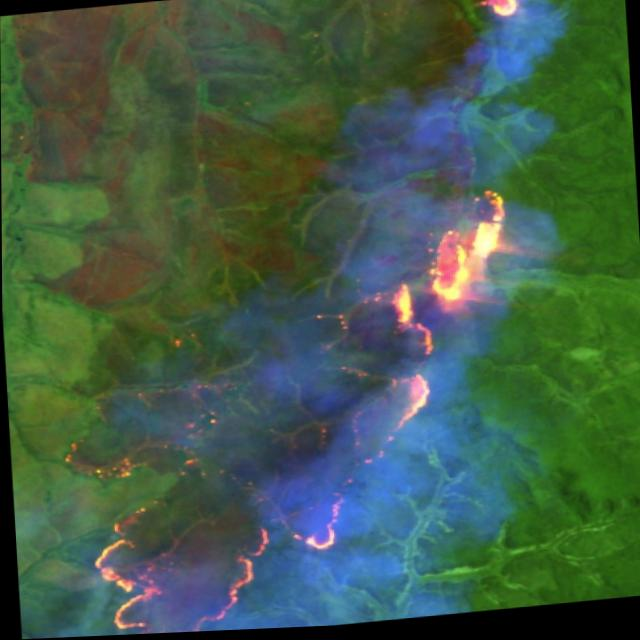fire: (23, 0, 570, 639)
